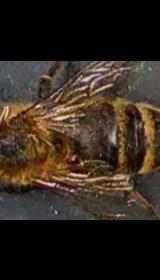varroa_mite: (64, 150, 88, 174)
